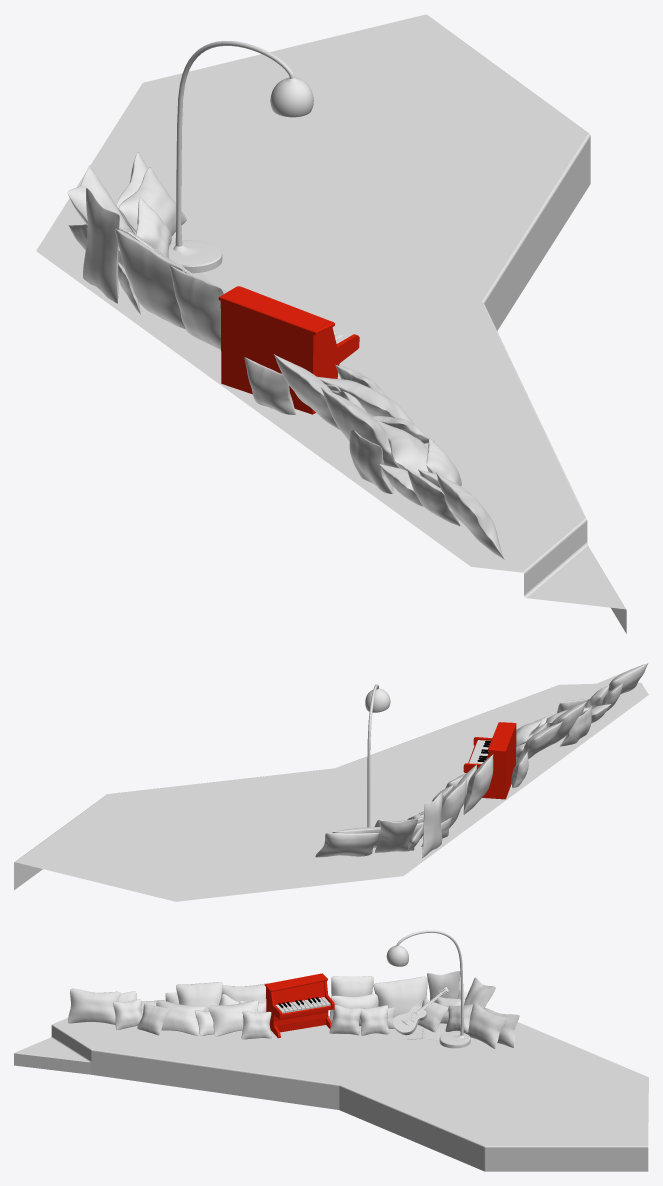
The model's file is chambre test estrade coussin.fbx.
3 views of the same model, one above another, from view 1: azimuth 30°, elevation 25°; view 2: azimuth 150°, elevation 25°; view 3: azimuth 270°, elevation 25° (orthographic). The views are drawn at different scales.
Visible parts, largest first — view 1: Estrade.001|Estrade|Dupli|, Piano_Jouet|Piano_jouet|Dupli|, Lampe_Pied.002|Lampe_Pied|Dupli|, Coussin_A.002|Coussin_A|Dupli|, Coussin_B.005|Coussin_B|Dupli|, Coussin_A.001|Coussin_A|Dupli|, Coussin_B.010|Coussin_B|Dupli|, Coussin_A.011|Coussin_A|Dupli|, Coussin_B.006|Coussin_B|Dupli|, Coussin_C.004|Coussin_C|Dupli|, Coussin_B.002|Coussin_B|Dupli|, Coussin_D.002|Coussin_D|Dupli| (+5 smaller); view 2: Estrade.001|Estrade|Dupli|, Piano_Jouet|Piano_jouet|Dupli|, Coussin_B.007|Coussin_B|Dupli|, Coussin_B.003|Coussin_B|Dupli|, Coussin_B.005|Coussin_B|Dupli|, Lampe_Pied.002|Lampe_Pied|Dupli|, Coussin_A.001|Coussin_A|Dupli|, Coussin_A.002|Coussin_A|Dupli|, Coussin_B.002|Coussin_B|Dupli|, Coussin_A.011|Coussin_A|Dupli|, Coussin_B.010|Coussin_B|Dupli|, Coussin_D.002|Coussin_D|Dupli| (+1 smaller); view 3: Estrade.001|Estrade|Dupli|, Piano_Jouet|Piano_jouet|Dupli|, Coussin_B.010|Coussin_B|Dupli|, Coussin_A.002|Coussin_A|Dupli|, Lampe_Pied.002|Lampe_Pied|Dupli|, Coussin_B.001|Coussin_B|Dupli|, Coussin_B.006|Coussin_B|Dupli|, Coussin_B.015|Coussin_B|Dupli|, Coussin_A.011|Coussin_A|Dupli|, Coussin_A.001|Coussin_A|Dupli|, Coussin_C.010|Coussin_C|Dupli|, Coussin_C.006|Coussin_C|Dupli| (+12 smaller).
Part boxes in pixels (bbox=[...]): Estrade.001|Estrade|Dupli|: bbox=[36, 14, 626, 633]; Piano_Jouet|Piano_jouet|Dupli|: bbox=[218, 286, 359, 414]; Lampe_Pied.002|Lampe_Pied|Dupli|: bbox=[168, 41, 313, 273]; Coussin_A.002|Coussin_A|Dupli|: bbox=[114, 228, 185, 329]; Coussin_B.005|Coussin_B|Dupli|: bbox=[83, 188, 119, 303]; Coussin_A.001|Coussin_A|Dupli|: bbox=[169, 265, 224, 349]; Coussin_B.010|Coussin_B|Dupli|: bbox=[436, 472, 504, 559]; Coussin_A.011|Coussin_A|Dupli|: bbox=[321, 387, 398, 467]; Coussin_B.006|Coussin_B|Dupli|: bbox=[119, 167, 186, 236]; Coussin_C.004|Coussin_C|Dupli|: bbox=[244, 357, 296, 414]; Coussin_B.002|Coussin_B|Dupli|: bbox=[274, 354, 340, 430]; Coussin_D.002|Coussin_D|Dupli|: bbox=[349, 430, 393, 493]; Estrade.001|Estrade|Dupli|: bbox=[14, 672, 648, 901]; Piano_Jouet|Piano_jouet|Dupli|: bbox=[463, 722, 516, 799]; Coussin_B.007|Coussin_B|Dupli|: bbox=[315, 833, 380, 857]; Coussin_B.003|Coussin_B|Dupli|: bbox=[374, 819, 417, 852]; Coussin_B.005|Coussin_B|Dupli|: bbox=[422, 792, 442, 857]; Lampe_Pied.002|Lampe_Pied|Dupli|: bbox=[365, 684, 390, 848]; Coussin_A.001|Coussin_A|Dupli|: bbox=[463, 754, 493, 814]; Coussin_A.002|Coussin_A|Dupli|: bbox=[440, 779, 467, 827]; Coussin_B.002|Coussin_B|Dupli|: bbox=[516, 721, 563, 763]; Coussin_A.011|Coussin_A|Dupli|: bbox=[547, 702, 586, 746]; Coussin_B.010|Coussin_B|Dupli|: bbox=[608, 663, 648, 694]; Coussin_D.002|Coussin_D|Dupli|: bbox=[559, 706, 591, 746]; Estrade.001|Estrade|Dupli|: bbox=[14, 1016, 648, 1171]; Piano_Jouet|Piano_jouet|Dupli|: bbox=[264, 973, 334, 1038]; Coussin_B.010|Coussin_B|Dupli|: bbox=[68, 988, 120, 1024]; Coussin_A.002|Coussin_A|Dupli|: bbox=[373, 976, 427, 1025]; Lampe_Pied.002|Lampe_Pied|Dupli|: bbox=[386, 930, 470, 1048]; Coussin_B.001|Coussin_B|Dupli|: bbox=[208, 1000, 258, 1036]; Coussin_B.006|Coussin_B|Dupli|: bbox=[460, 1003, 507, 1048]; Coussin_B.015|Coussin_B|Dupli|: bbox=[156, 1000, 205, 1035]; Coussin_A.011|Coussin_A|Dupli|: bbox=[176, 982, 222, 1011]; Coussin_A.001|Coussin_A|Dupli|: bbox=[329, 976, 373, 1021]; Coussin_C.010|Coussin_C|Dupli|: bbox=[329, 1005, 361, 1035]; Coussin_C.006|Coussin_C|Dupli|: bbox=[241, 1011, 271, 1039].
Bounding box in the file's own units: 449 × 227 × 920.
